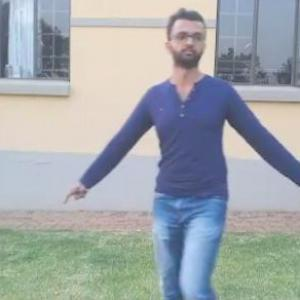land: (27, 7, 296, 299)
